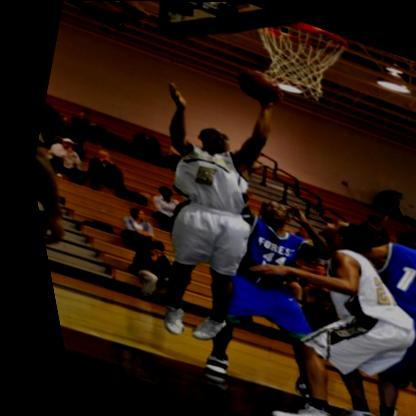basketball: (227, 64, 284, 106)
